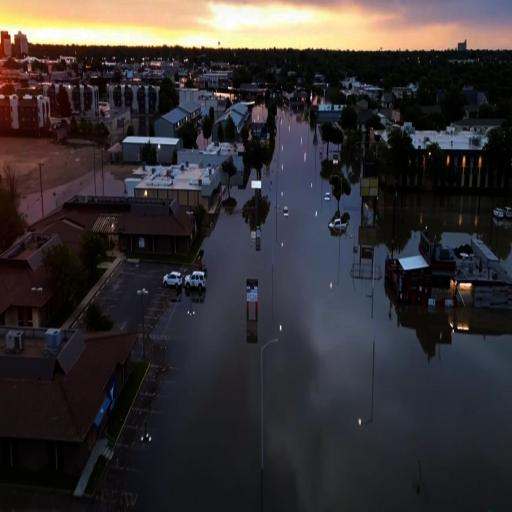flood: (124, 112, 512, 512), (0, 135, 93, 222), (104, 164, 127, 193)
house: (0, 320, 140, 502), (386, 222, 512, 308), (0, 220, 88, 322), (118, 200, 196, 262), (442, 132, 486, 190), (121, 134, 184, 174), (0, 93, 49, 131), (214, 101, 250, 152), (108, 84, 158, 114), (72, 84, 98, 118), (157, 108, 189, 134)
